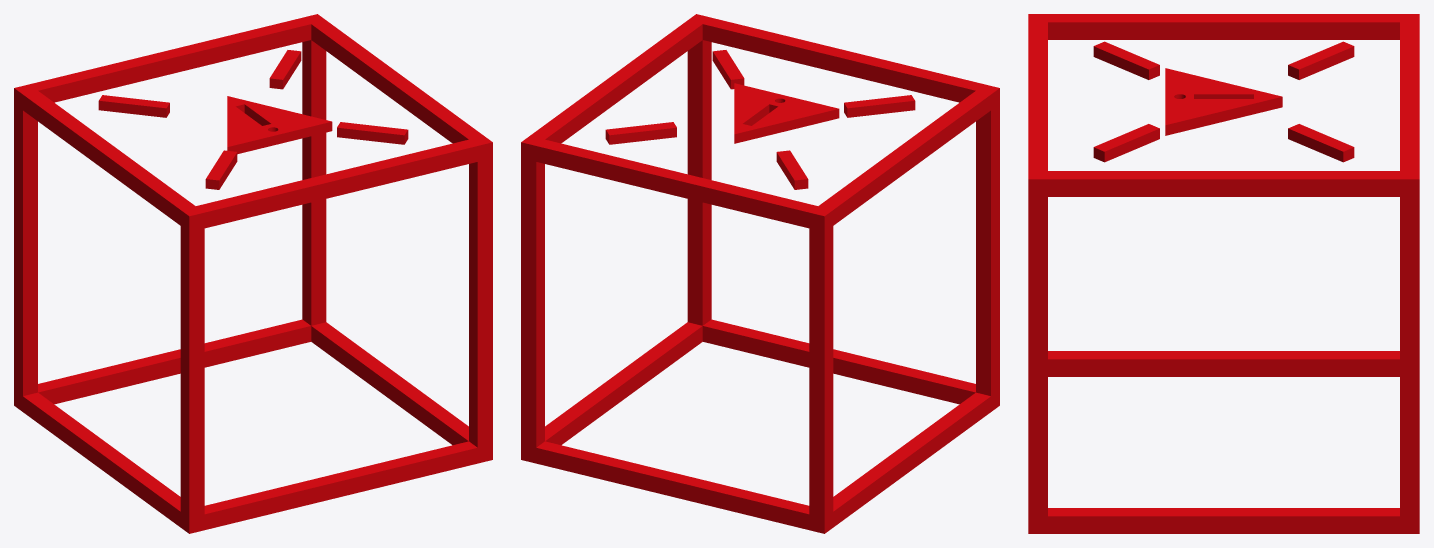
The model's file is 红门模型.fbx.
3 renders of one model, left to right at view 1: azimuth 30°, elevation 25°; view 2: azimuth 150°, elevation 25°; view 3: azimuth 270°, elevation 25°, orthographic. The views are drawn at different scales.
Parts seen in each view (by area): view 1: 零件1; view 2: 零件1; view 3: 零件1.
Part boxes in pixels (x1=…): 零件1: x1=14, y1=14, x2=492, y2=533; 零件1: x1=521, y1=14, x2=999, y2=533; 零件1: x1=1028, y1=14, x2=1419, y2=533.
Bounding box in the file's own units: 10000 × 10000 × 10000.
